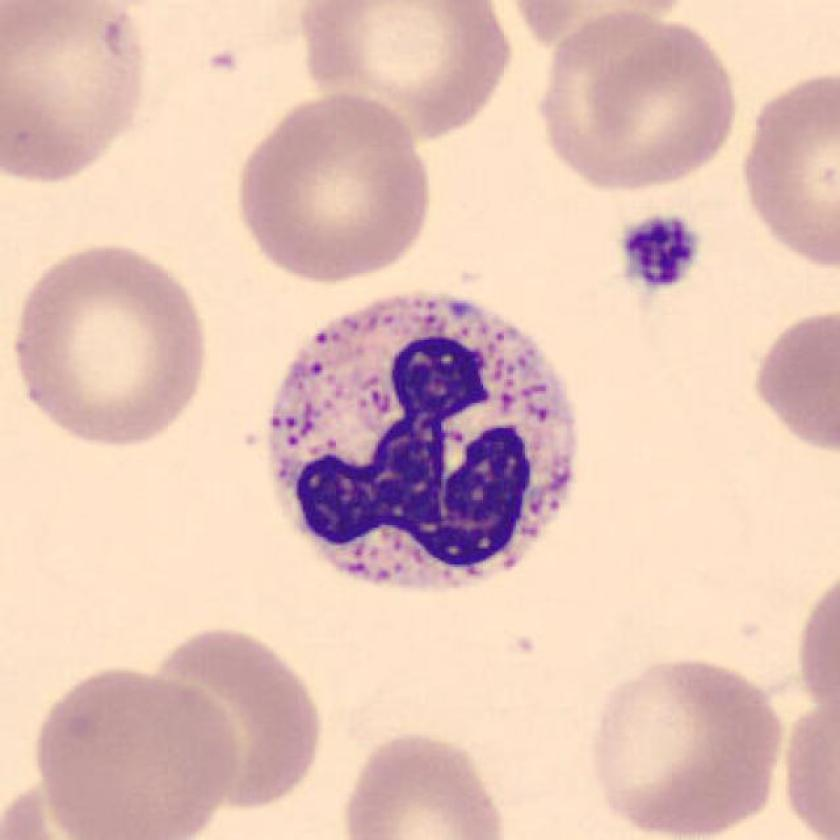neutrophil: (269, 296, 575, 592)
